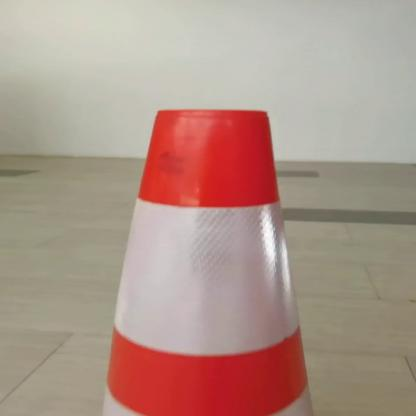cone: (95, 93, 333, 416)
